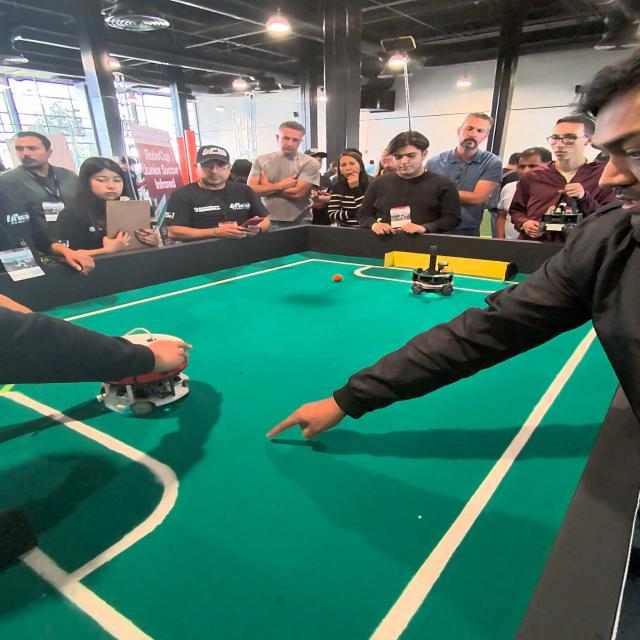Robot: (93, 319, 220, 427), (409, 249, 458, 301)
pelota: (333, 274, 343, 282)
